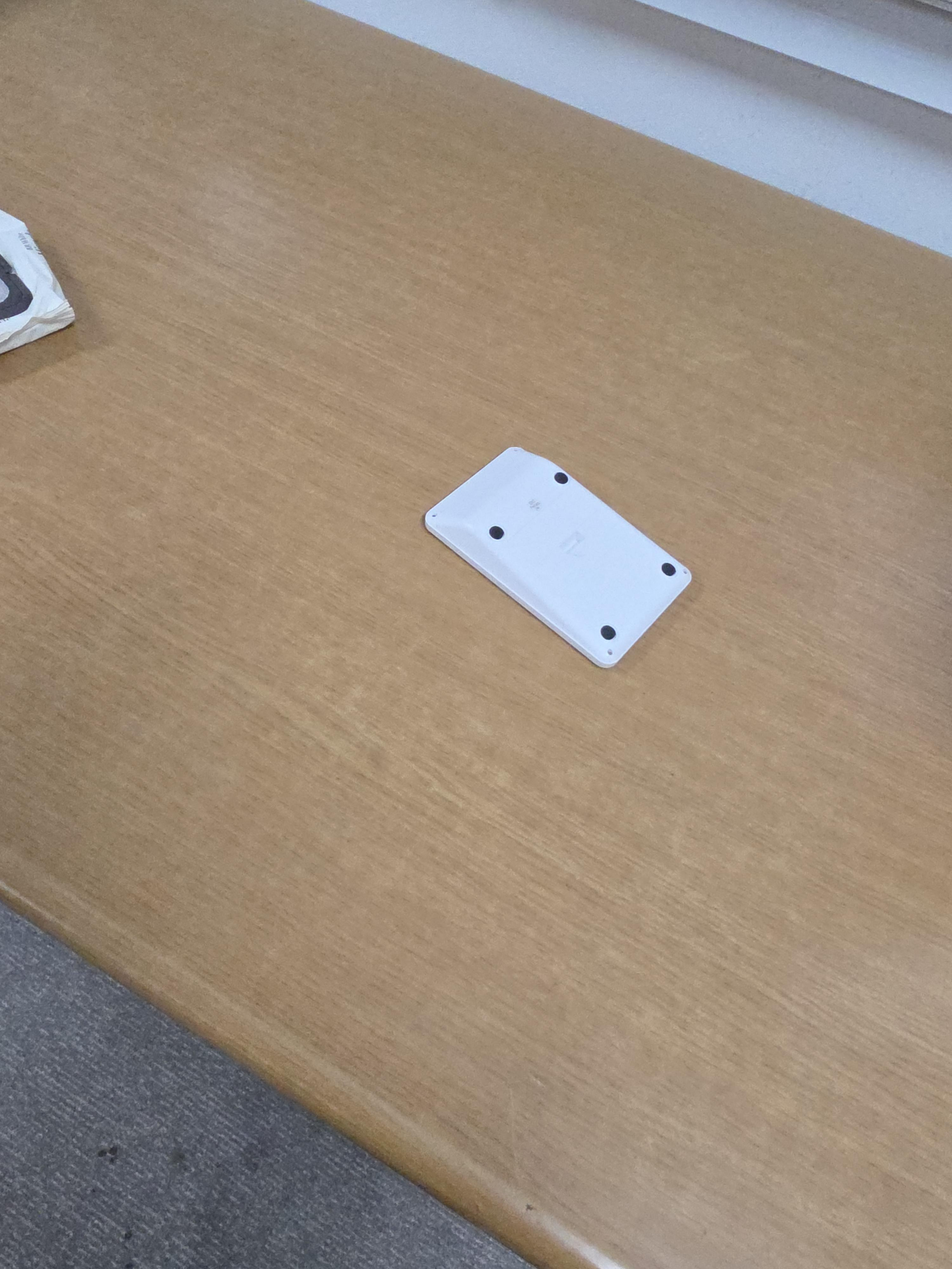calculator: (424, 446, 692, 669)
